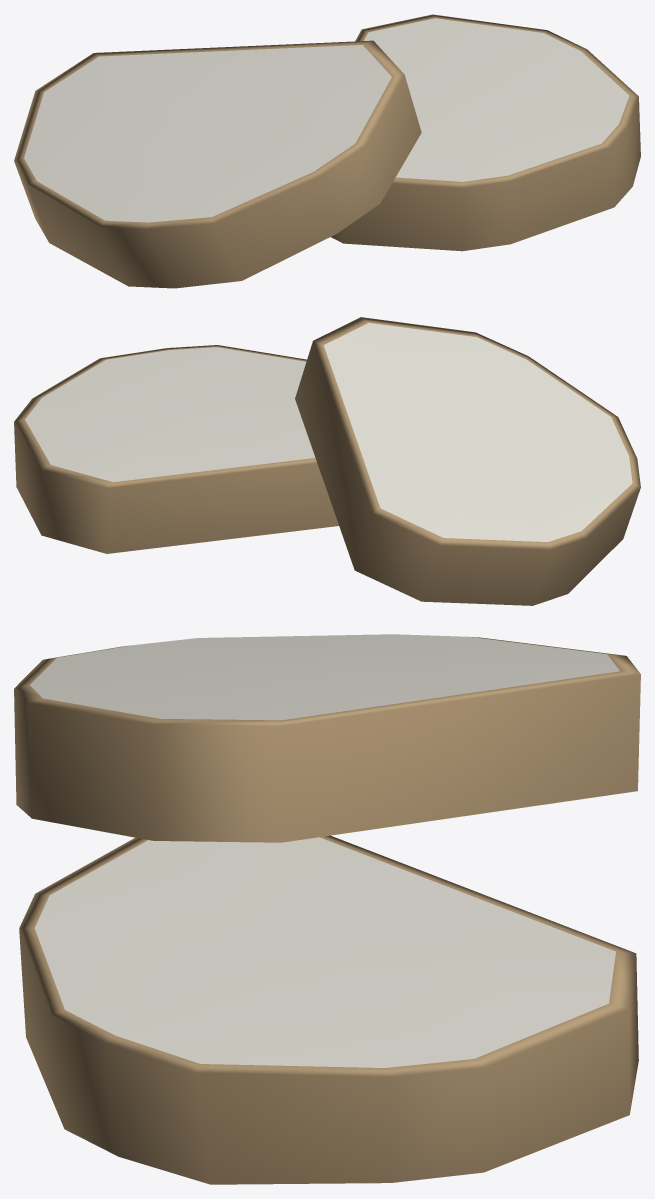
Rendered from PT_Bread_06.fbx.
3 views of the same model, one above another, from view 1: azimuth 30°, elevation 25°; view 2: azimuth 150°, elevation 25°; view 3: azimuth 270°, elevation 25° (orthographic). The views are drawn at different scales.
Visible parts, largest first — view 1: PT_Bread_06; view 2: PT_Bread_06; view 3: PT_Bread_06.
Part boxes in pixels (x1,y1,x2,y2): PT_Bread_06: (14, 14, 640, 288); PT_Bread_06: (14, 317, 640, 605); PT_Bread_06: (14, 634, 640, 1184).
Bounding box in the file's own units: 16.02 × 4.45 × 9.54.
Materials: 1 (1 with a texture image).
